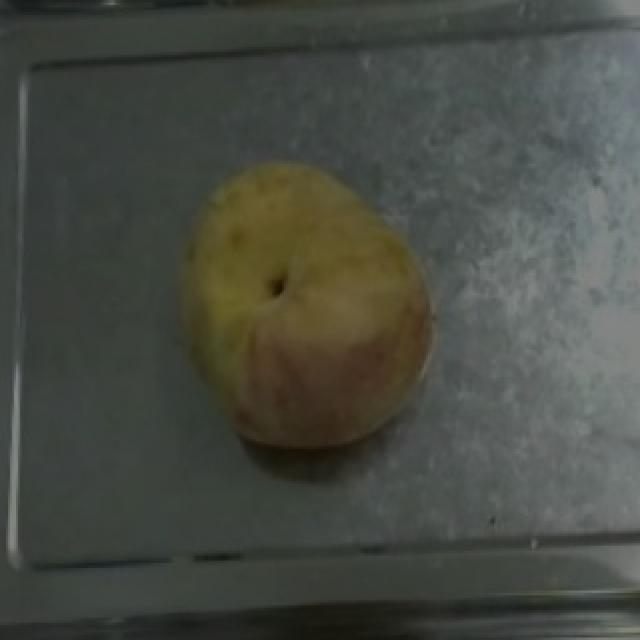Fruit: (158, 146, 452, 466)
